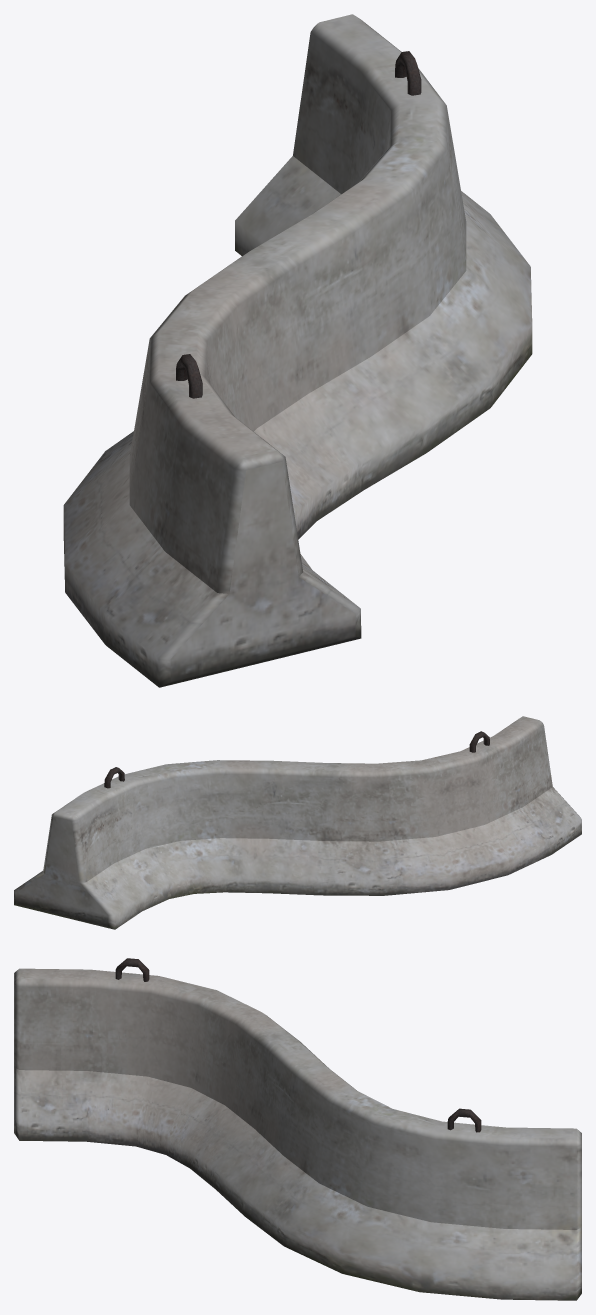
Rendered from ConcreteBarrier_A_D.fbx.
The picture shows the model from 3 angles, top to bottom: view 1: azimuth 30°, elevation 25°; view 2: azimuth 150°, elevation 25°; view 3: azimuth 270°, elevation 25°; orthographic projection. The views are drawn at different scales.
Parts seen in each view (by area): view 1: ConcreteBarrier_A_D; view 2: ConcreteBarrier_A_D; view 3: ConcreteBarrier_A_D.
Boxes of the visible parts, box(x1,y1,x2,y2) form: ConcreteBarrier_A_D: box(63, 14, 532, 687); ConcreteBarrier_A_D: box(14, 716, 581, 929); ConcreteBarrier_A_D: box(14, 958, 581, 1300).
Size of the model in its own units: 280 by 89.84 by 300.
